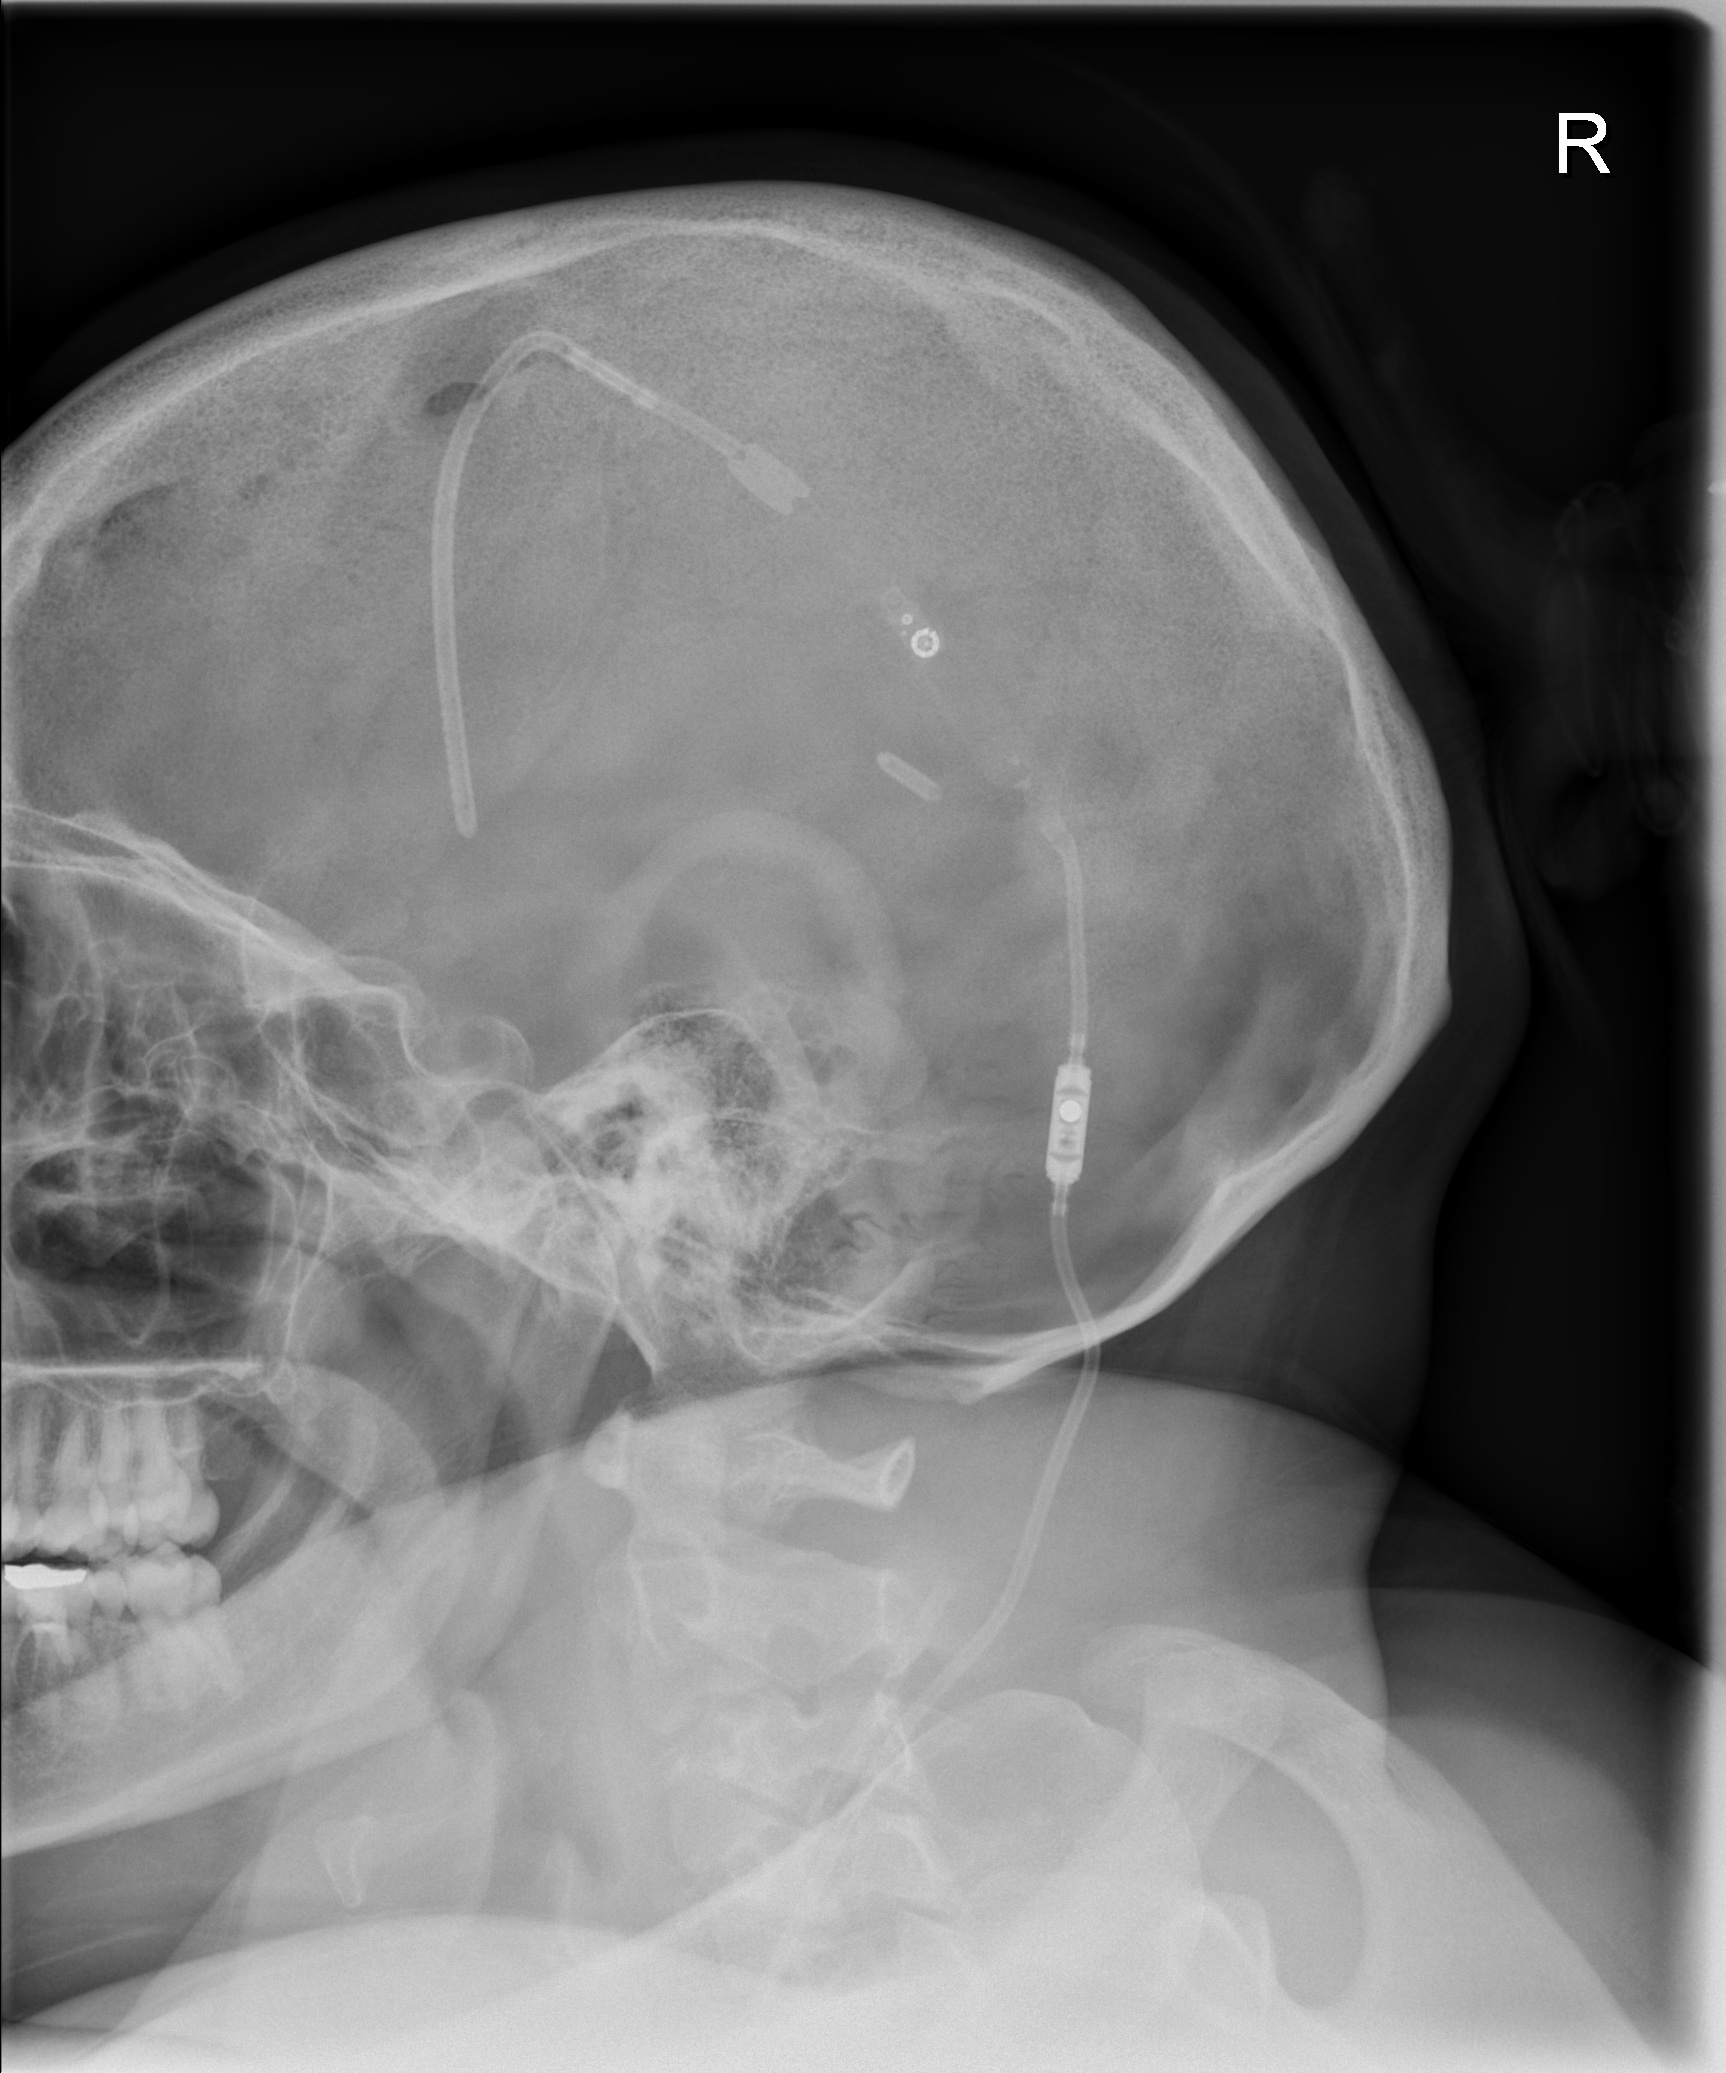Codman Hakim: (872, 591, 953, 684)
proGAV Gravitationseinheit: (1039, 1043, 1097, 1221)
